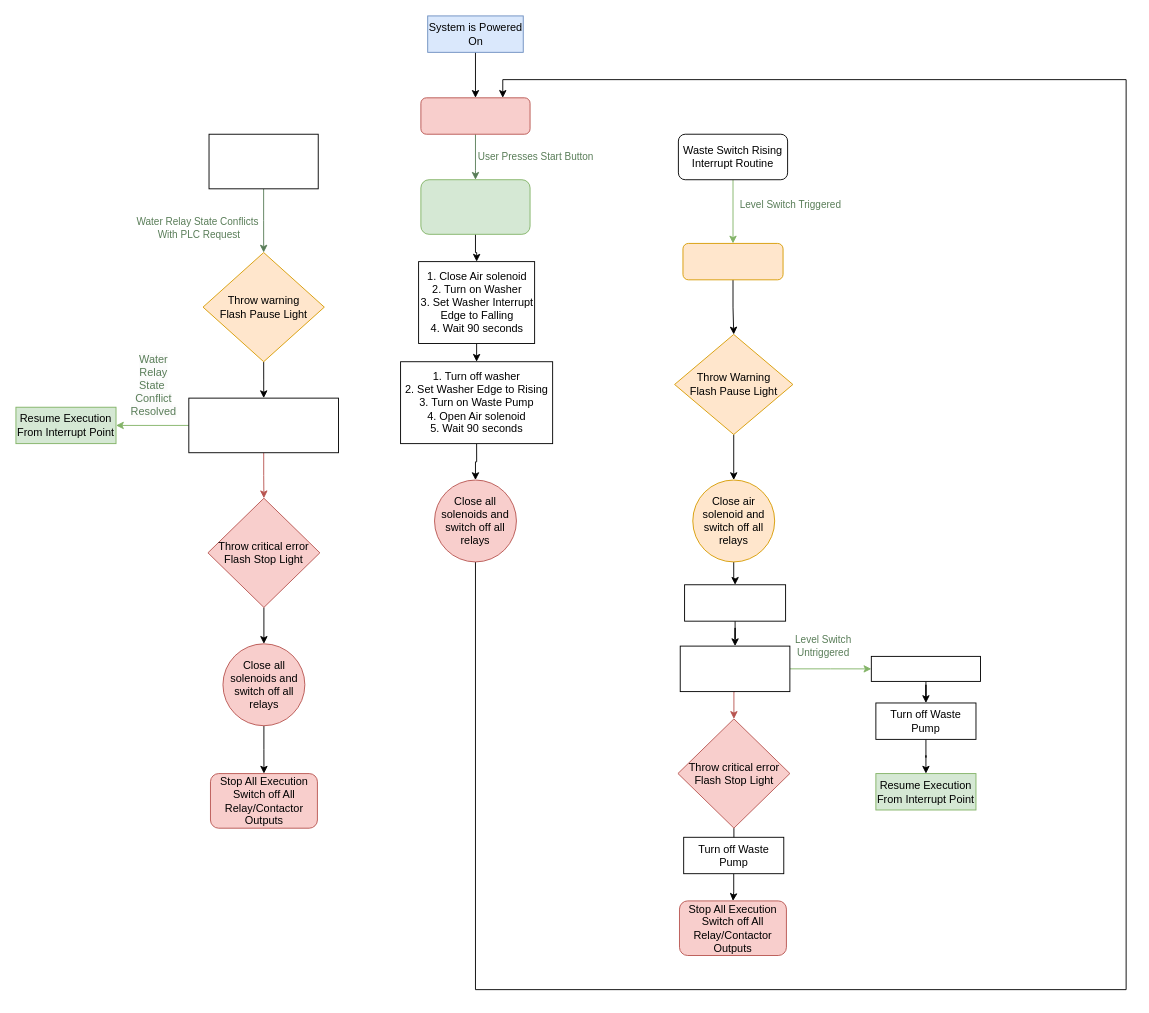
The diagram is 1149 pixels wide and 1013 high, and some of its shapes have lost their labels. Here are the shapes that lost their labels. From the top down, the box of each, then its label:
(420, 97, 530, 134): Enter Idle State
(208, 133, 318, 189): Pressure Washer Relay State Interrupt Routine
(420, 179, 530, 234): Enter Started State
(682, 243, 783, 280): Enter Full Basin State
(188, 397, 339, 453): Wait 30 seconds While Polling Pressure Washer Relay State
(684, 584, 786, 621): Turn On Waste Pump
(679, 645, 790, 692): Wait 30 Seconds While Polling Level Switch
(870, 655, 981, 681): Wait 5 Seconds
